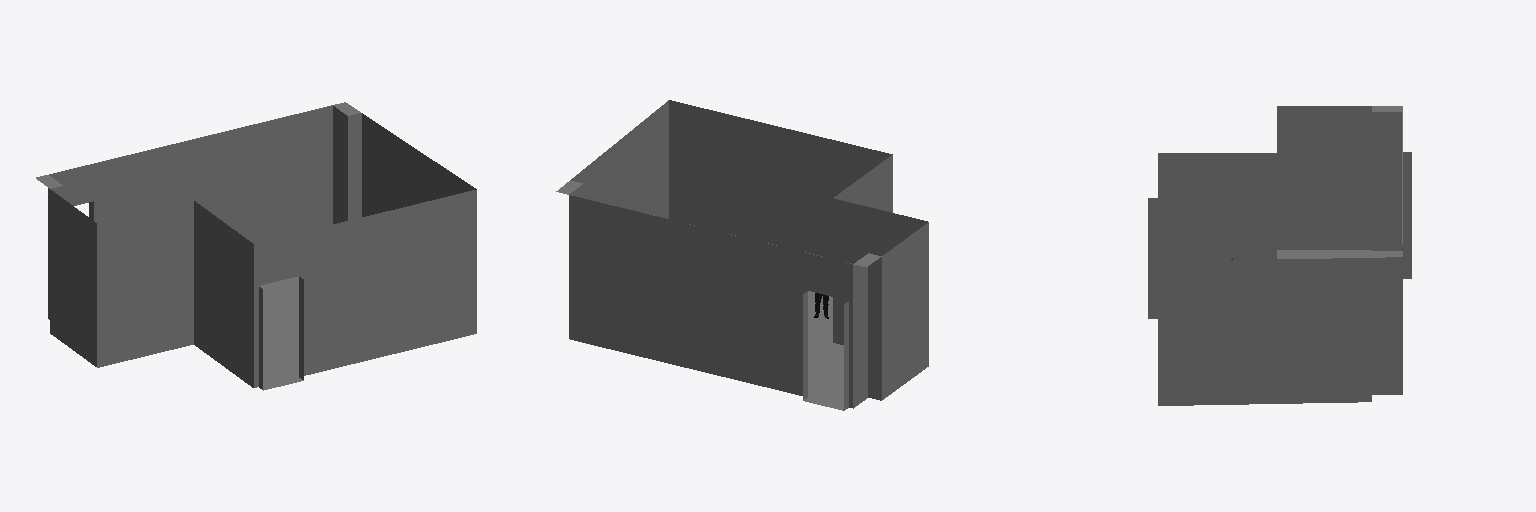
File: spiritframe.obj
The picture shows the model from 3 angles: view 1: azimuth 30°, elevation 25°; view 2: azimuth 150°, elevation 25°; view 3: azimuth 270°, elevation 25°; orthographic projection.
Visible parts, largest first — view 1: Mesh2_Model; view 2: Mesh2_Model; view 3: Mesh2_Model.
Part boxes in pixels (x1,y1,x2,y2): Mesh2_Model: (36, 102, 476, 390); Mesh2_Model: (556, 100, 928, 410); Mesh2_Model: (1148, 106, 1411, 405).
Bounding box in the file's own units: 0.7164 × 0.3097 × 0.5117.